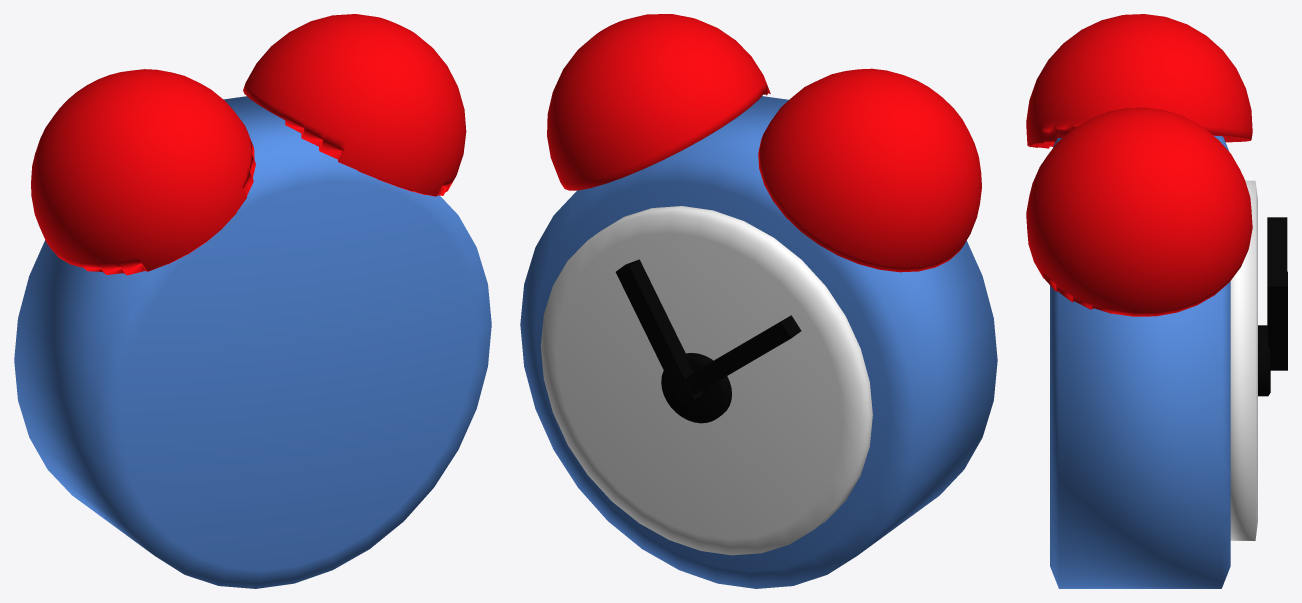
The model's file is clock.fbx.
The picture shows the model from 3 angles, left to right: view 1: azimuth 30°, elevation 25°; view 2: azimuth 150°, elevation 25°; view 3: azimuth 270°, elevation 25°; orthographic projection.
Parts seen in each view (by area): view 1: Cylinder; view 2: Cylinder; view 3: Cylinder.
Boxes of the visible parts, box(x1,y1,x2,y2) form: Cylinder: box(14, 14, 491, 588); Cylinder: box(520, 14, 997, 588); Cylinder: box(1026, 14, 1287, 588).
Size of the model in its own units: 258 by 308 by 147.
